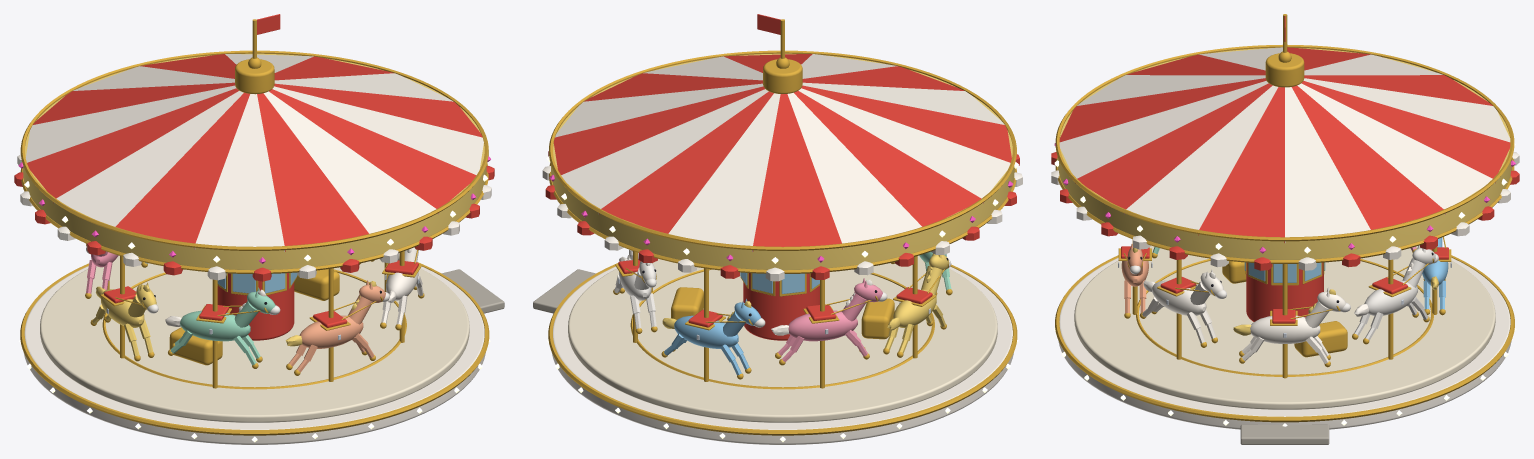
File: carousel.glb
3 views of the same model, side by side, from view 1: azimuth 30°, elevation 25°; view 2: azimuth 150°, elevation 25°; view 3: azimuth 270°, elevation 25° (orthographic).
Visible parts, largest first — view 1: carousel_top.002, carousel.002; view 2: carousel_top.002, carousel.002; view 3: carousel_top.002, carousel.002.
Part boxes in pixels (x1,y1,x2,y2): carousel_top.002: (14, 14, 494, 422); carousel.002: (18, 262, 504, 444); carousel_top.002: (542, 14, 1022, 422); carousel.002: (533, 263, 1018, 444); carousel_top.002: (1051, 14, 1519, 409); carousel.002: (1054, 245, 1516, 444).
Size of the model in its own units: 8.88 by 6.4 by 8.45.
Materials: 1 (1 with a texture image).
